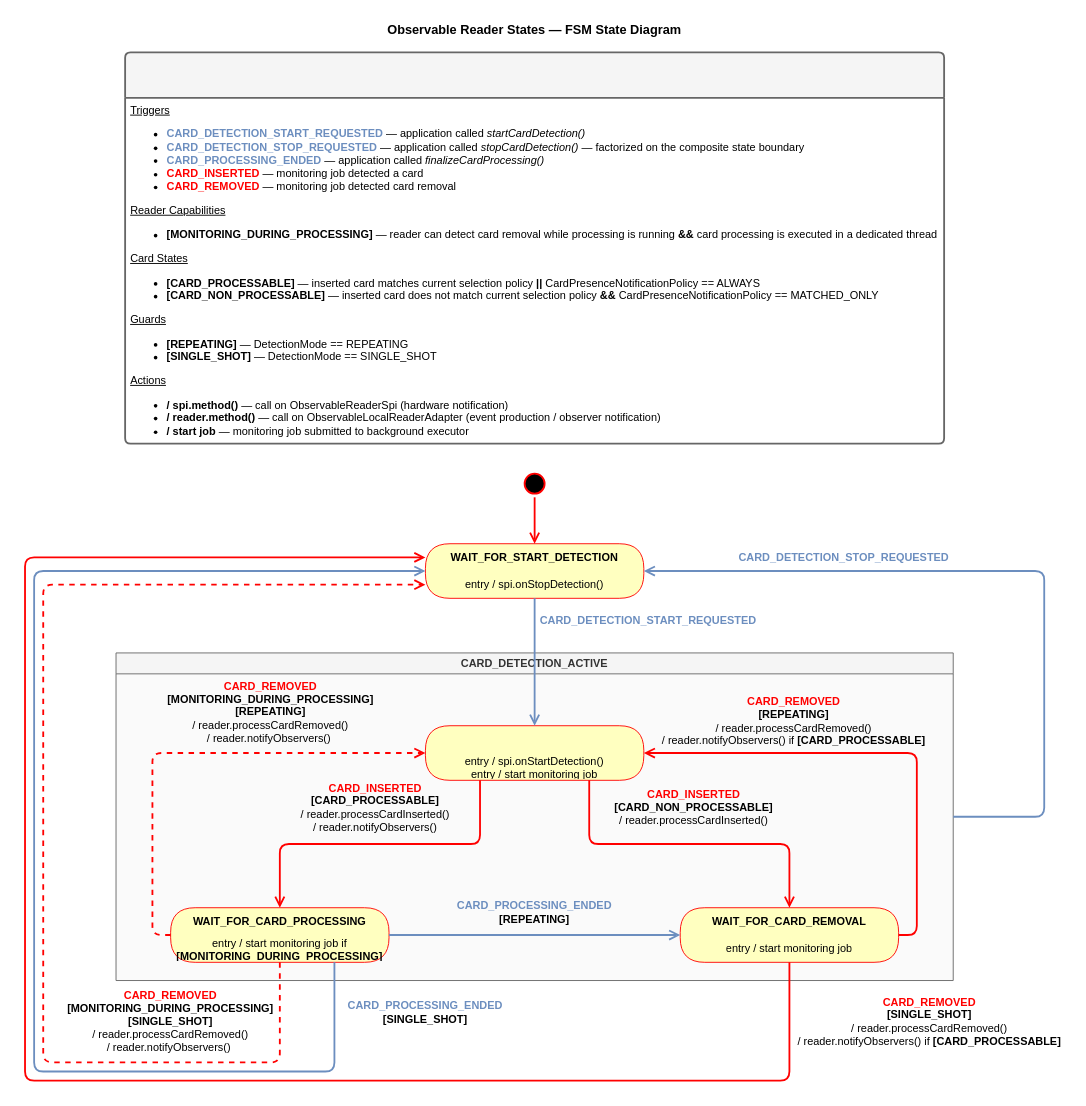
This 1086x1106 diagram has some shape labels left out. The box of each missing label's shape, as (x1, y1, x2, y2) in pixels:
Legend: (124, 51, 945, 444)
WAIT_FOR_CARD_INSERTION: (425, 725, 644, 780)
